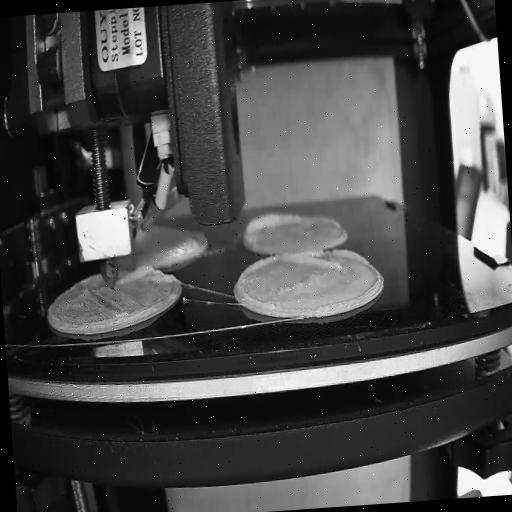over_extrusion: (282, 244, 372, 278), (234, 255, 283, 310), (244, 207, 306, 242), (118, 264, 152, 290)
